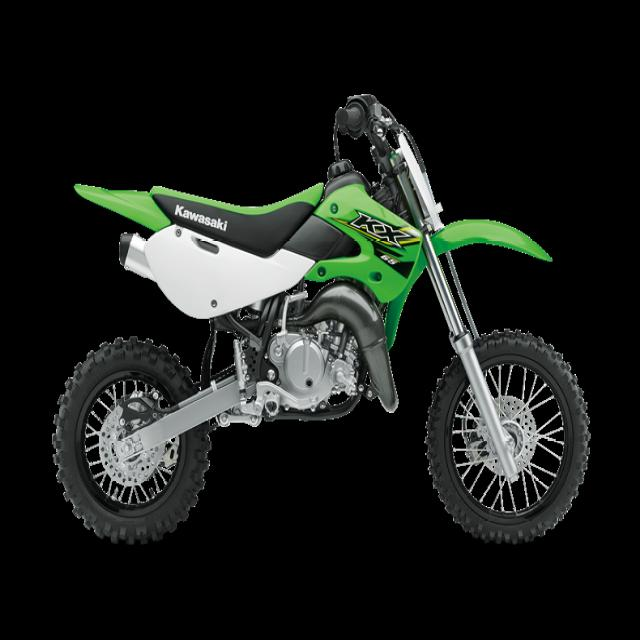Motorcycle: (53, 95, 591, 544)
